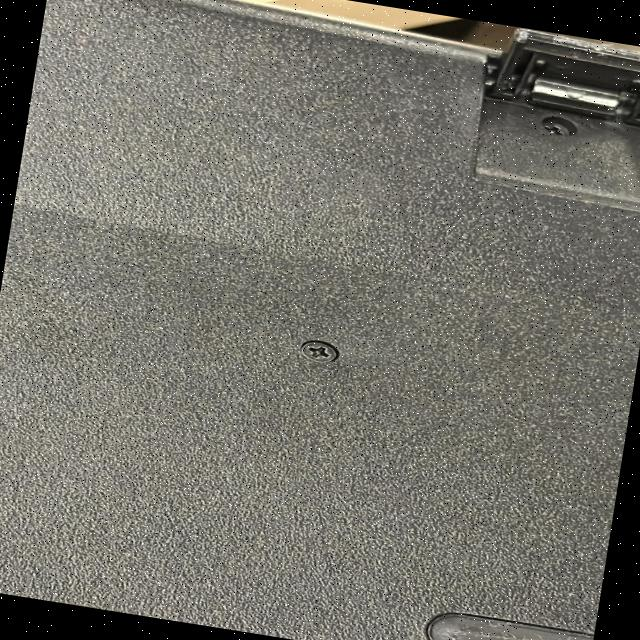Phillips: (290, 335, 344, 372), (525, 112, 579, 142)
